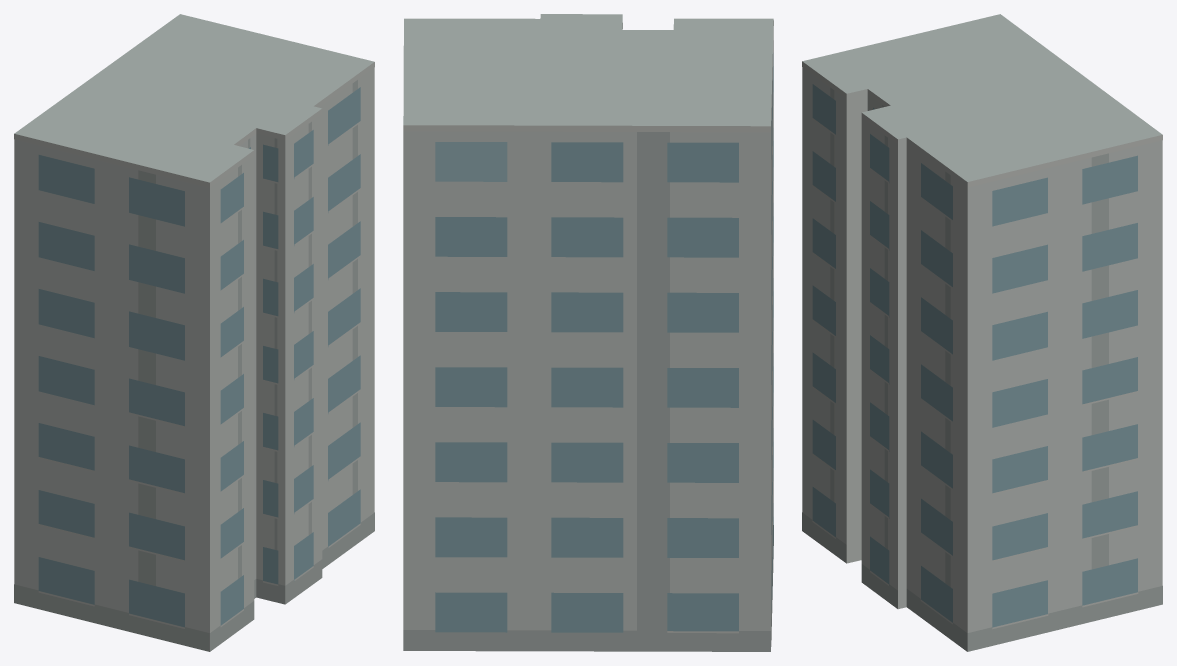
File: survey-upis-33023832.glb
3 renders of one model, left to right at view 1: azimuth 30°, elevation 25°; view 2: azimuth 150°, elevation 25°; view 3: azimuth 270°, elevation 25°, orthographic. The views are drawn at different scales.
Parts seen in each view (by area): view 1: survey-upis-33023832.tmp; view 2: survey-upis-33023832.tmp; view 3: survey-upis-33023832.tmp.
Boxes of the visible parts, x1,y1,x2,y2 form: survey-upis-33023832.tmp: (14,14,374,651); survey-upis-33023832.tmp: (403,14,773,651); survey-upis-33023832.tmp: (802,14,1162,651).
Size of the model in its own units: 15.82 by 20.6 by 14.34.
